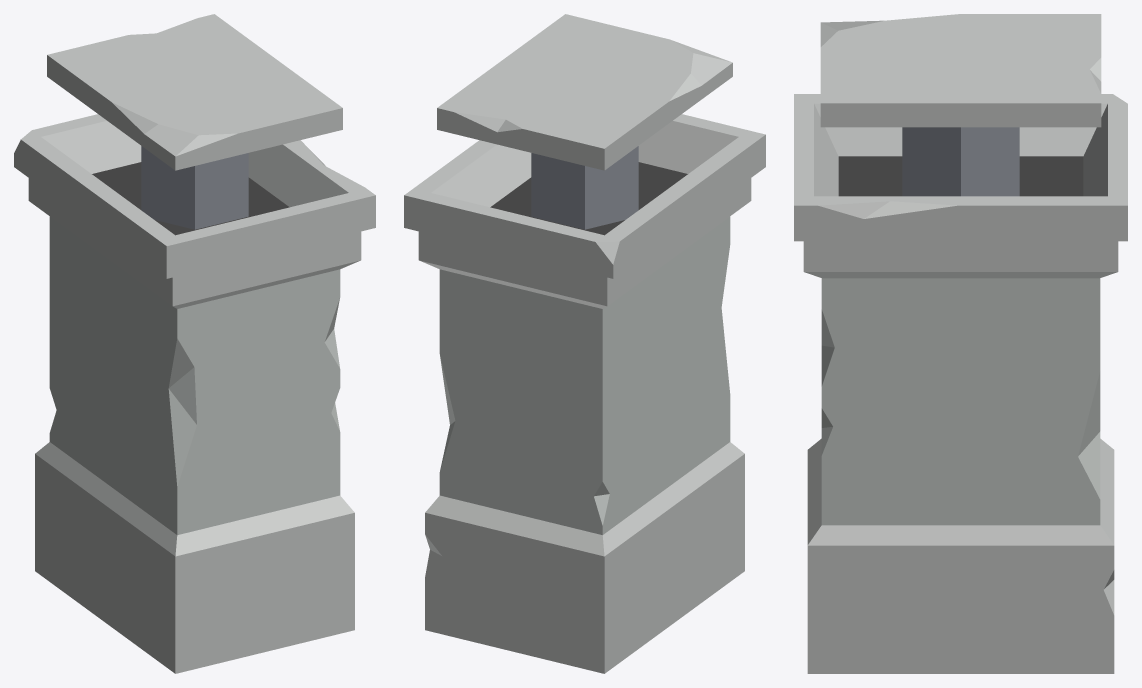
Rendered from SM_Bld_Chimney_01.fbx.
3 renders of one model, left to right at view 1: azimuth 30°, elevation 25°; view 2: azimuth 150°, elevation 25°; view 3: azimuth 270°, elevation 25°, orthographic. The views are drawn at different scales.
Visible parts, largest first — view 1: SM_Bld_Chimney_01; view 2: SM_Bld_Chimney_01; view 3: SM_Bld_Chimney_01.
Part boxes in pixels (<box>): SM_Bld_Chimney_01: <box>14,14,375,673</box>; SM_Bld_Chimney_01: <box>404,14,765,673</box>; SM_Bld_Chimney_01: <box>794,14,1127,673</box>.
Bounding box in the file's own units: 80.45 × 191 × 102.
